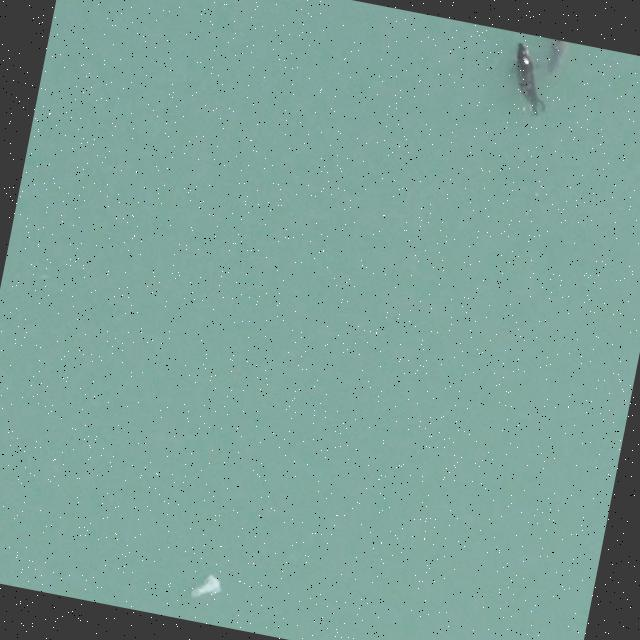seal: (503, 40, 547, 120)
